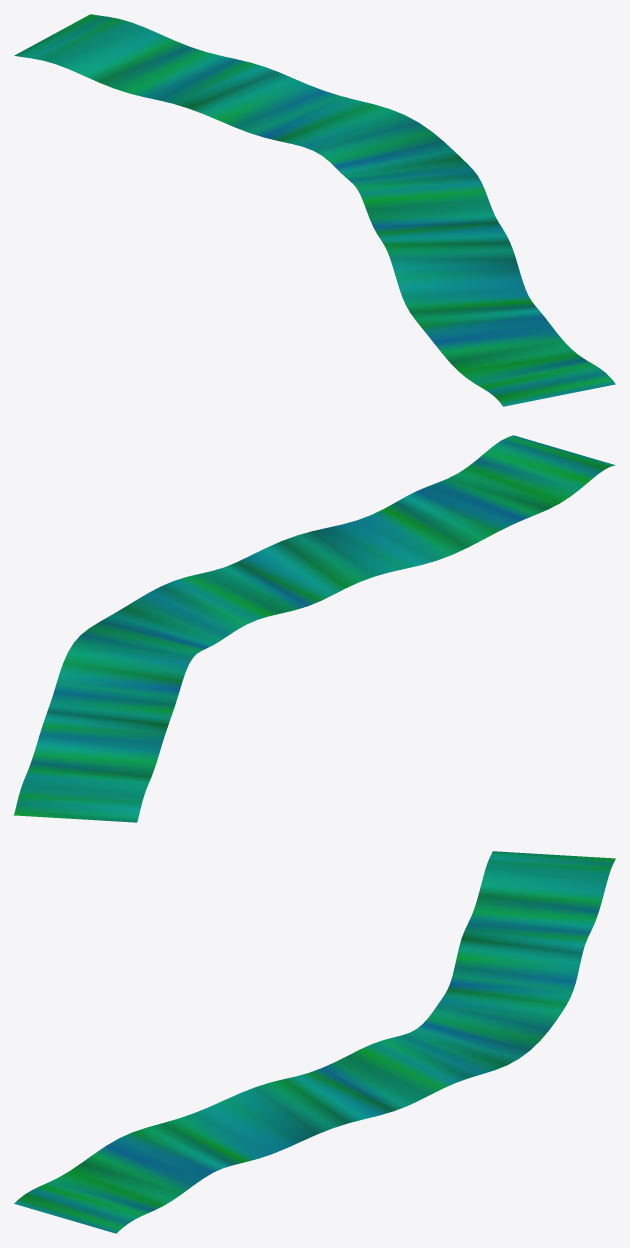
File: CreekBed_A.fbx
3 views of the same model, one above another, from view 1: azimuth 30°, elevation 25°; view 2: azimuth 150°, elevation 25°; view 3: azimuth 330°, elevation 25° (orthographic).
Parts seen in each view (by area): view 1: CreekBed_A; view 2: CreekBed_A; view 3: CreekBed_A.
Part boxes in pixels (x1,y1,x2,y2): CreekBed_A: (14,14,615,406); CreekBed_A: (14,435,615,822); CreekBed_A: (14,851,615,1233).
Size of the model in its own units: 1.1 by 0.0238 by 4.2.
